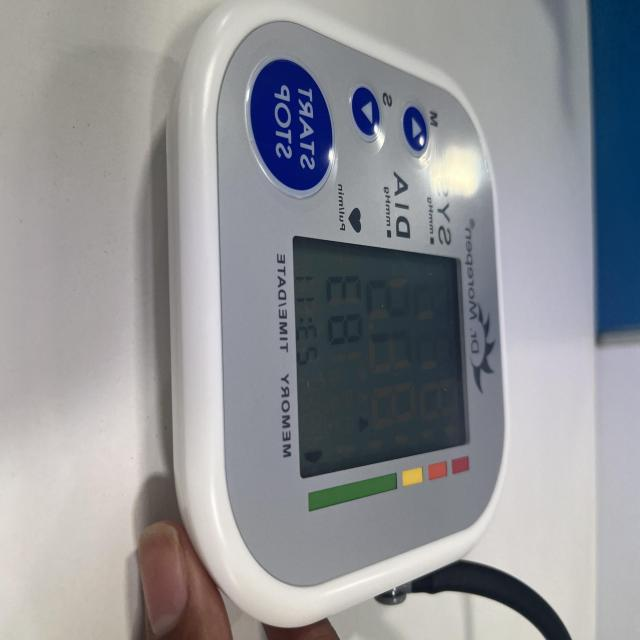bp: (166, 0, 510, 629)
